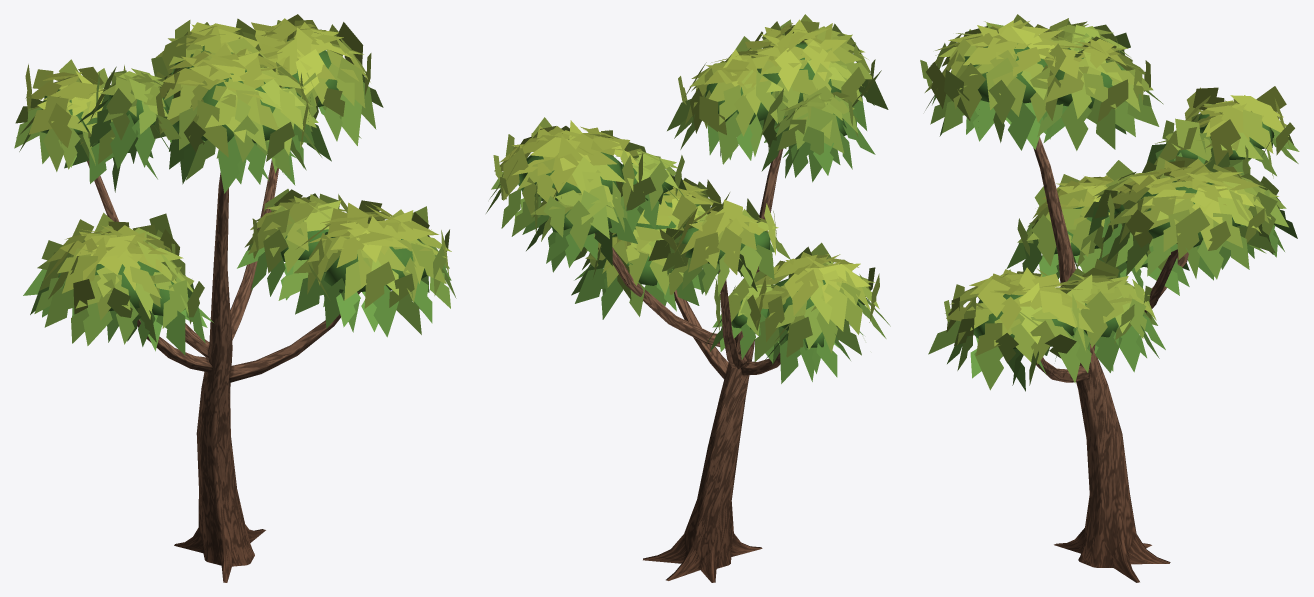
Rendered from tree_1.glb.
The picture shows the model from 3 angles, left to right: view 1: azimuth 30°, elevation 25°; view 2: azimuth 150°, elevation 25°; view 3: azimuth 270°, elevation 25°; orthographic projection. The views are drawn at different scales.
Parts seen in each view (by area): view 1: tree_1; view 2: tree_1; view 3: tree_1.
Boxes of the visible parts, x1=… form: tree_1: x1=14, y1=14, x2=456, y2=582; tree_1: x1=486, y1=14, x2=890, y2=582; tree_1: x1=920, y1=14, x2=1299, y2=582.
Bounding box in the file's own units: 4.9 × 7 × 4.7.
Materials: 2 (2 with a texture image).
